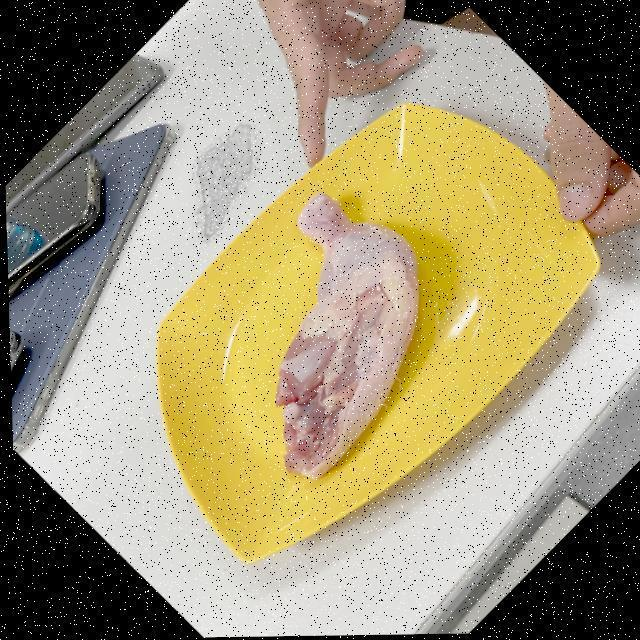quater: (284, 198, 420, 444)
